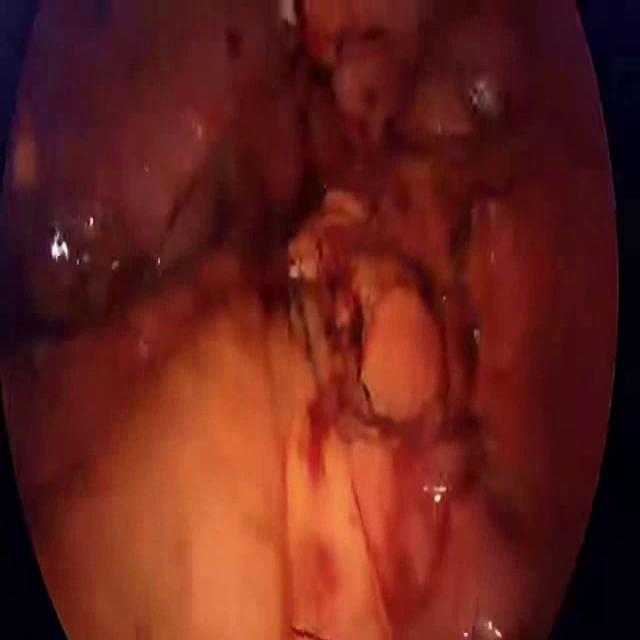surgical-area: (0, 0, 619, 639)
